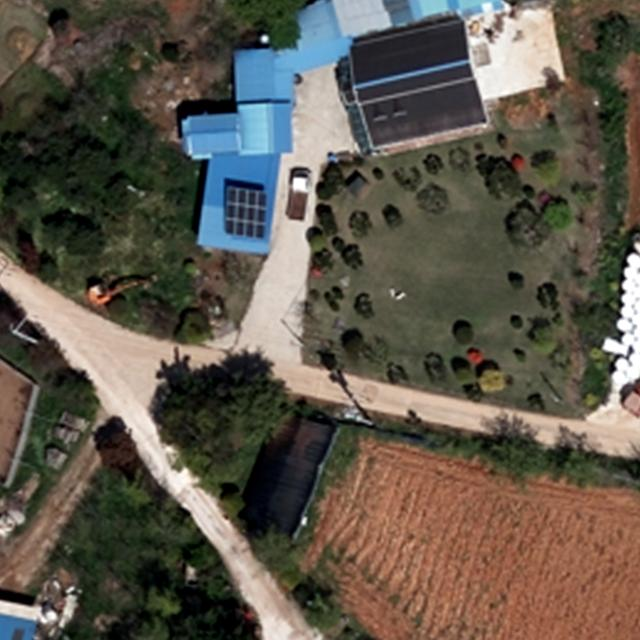panel: (221, 184, 270, 241)
